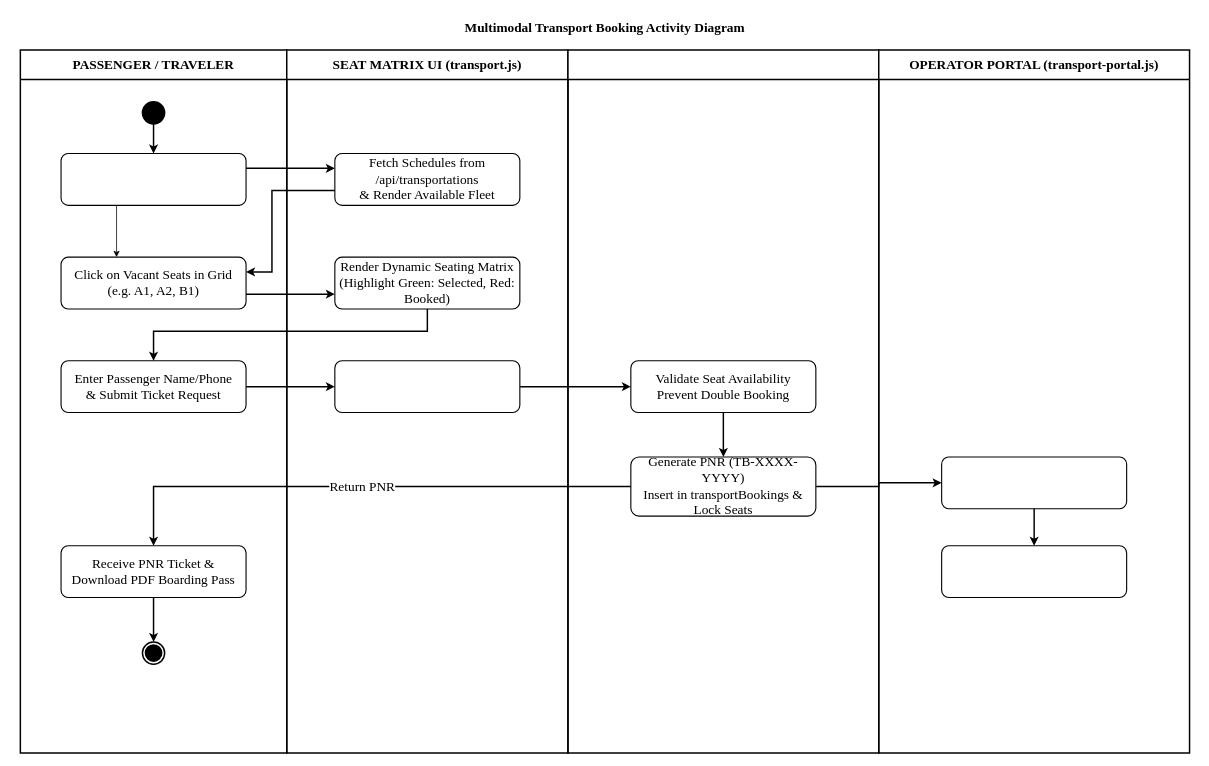
This 1209x766 diagram has some shape labels left out. Each missing label, with the box of its shape:
BACKEND API (/api/transport-bookings): (567, 49, 879, 753)
Calculate Fare = Seats * FarePerSeat POST /api/transport-bookings: (334, 360, 520, 413)
Operator Views Passenger PNR in Transport Portal: (941, 456, 1127, 509)
Search Routes by From/To District & Mode (Bus, Train, Flight): (60, 153, 246, 206)
Verify Ticket on Boarding & Set Status: Completed: (941, 545, 1127, 598)
